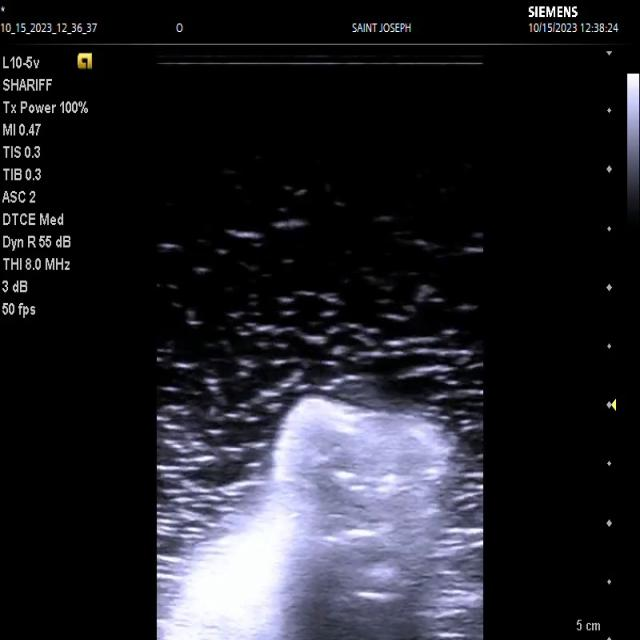tissue: (158, 394, 481, 640)
